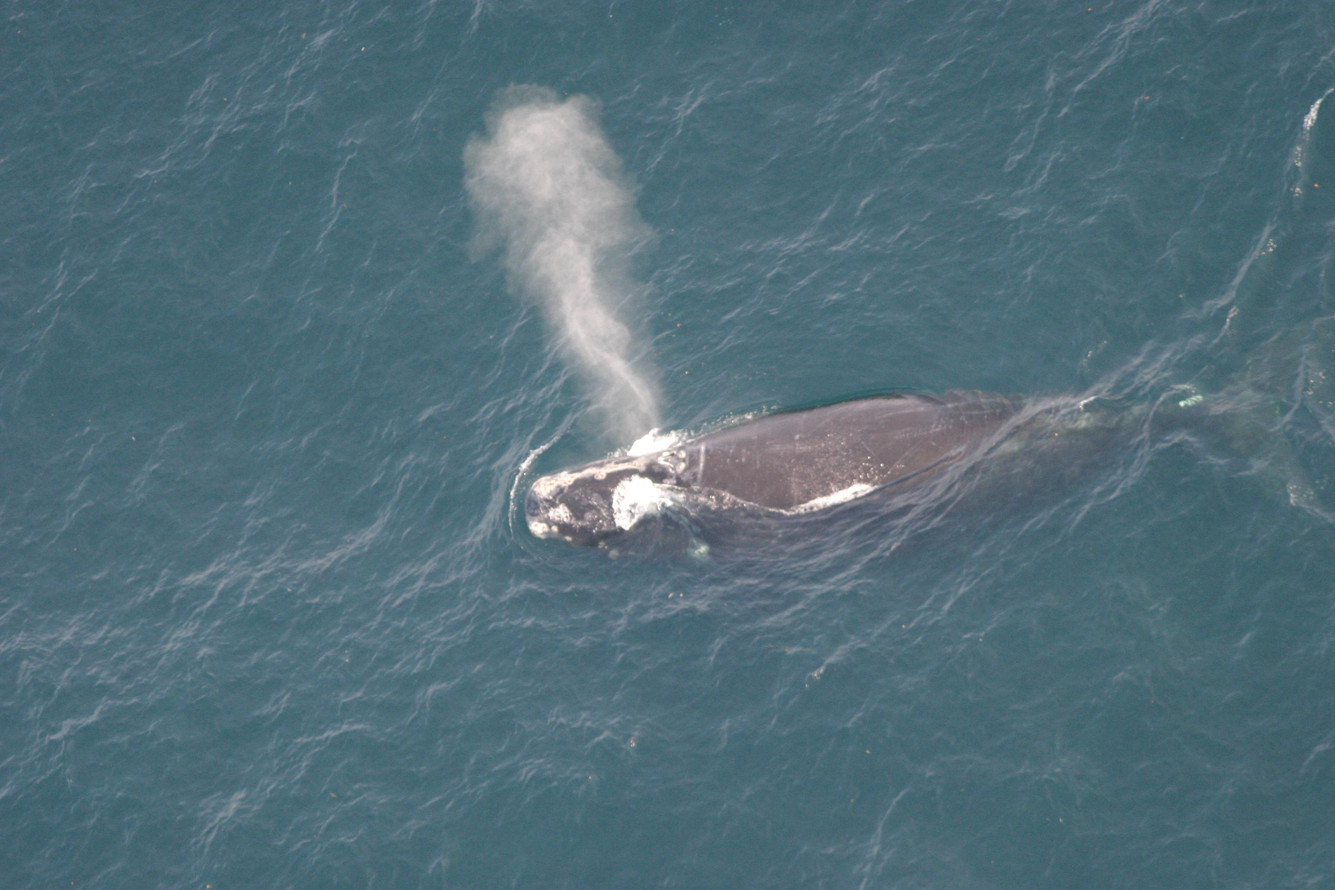whale: (503, 298, 1335, 591)
